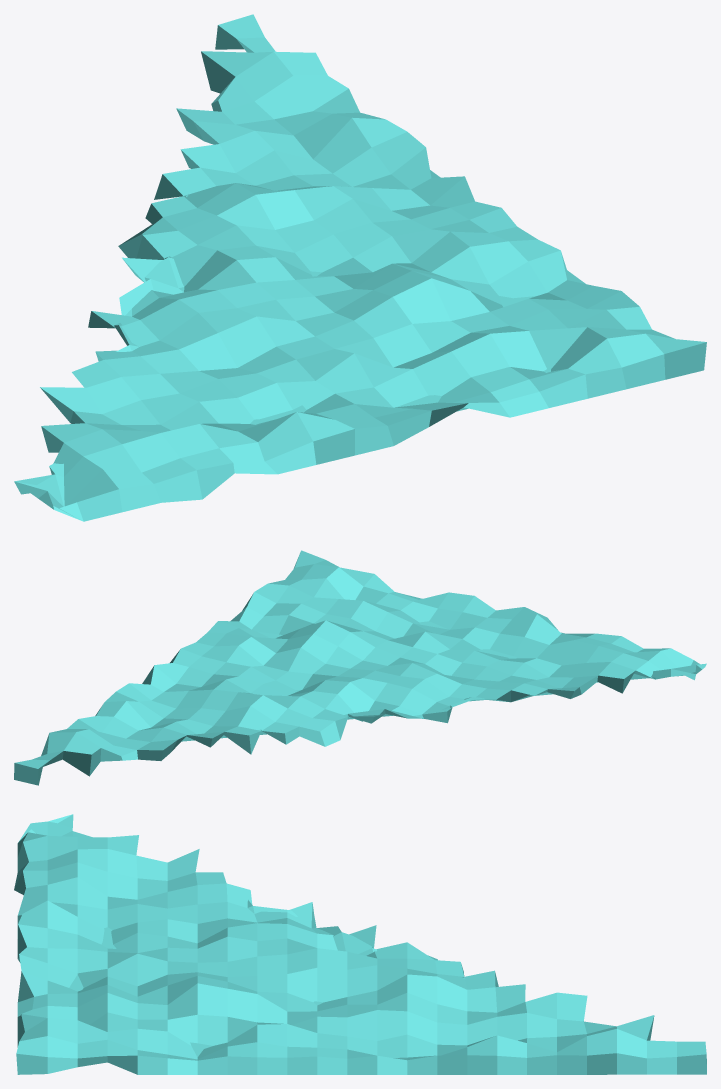
Rendered from water.fbx.
The picture shows the model from 3 angles, top to bottom: view 1: azimuth 30°, elevation 25°; view 2: azimuth 150°, elevation 25°; view 3: azimuth 270°, elevation 25°; orthographic projection. The views are drawn at different scales.
Visible parts, largest first — view 1: Plane.001; view 2: Plane.001; view 3: Plane.001.
Part boxes in pixels (x1,y1,x2,y2): Plane.001: (14,14,706,521); Plane.001: (14,550,706,785); Plane.001: (14,814,706,1074).
Bounding box in the file's own units: 463 × 33.02 × 552.
